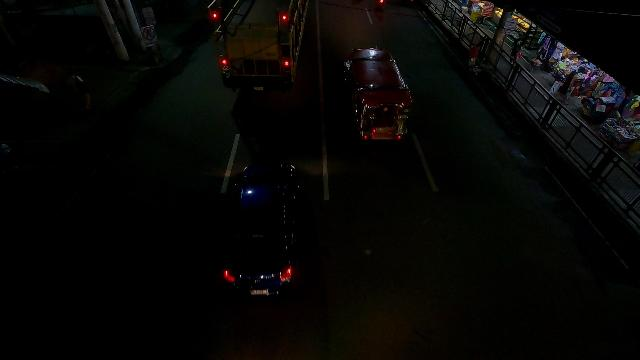car: (224, 164, 300, 295)
jeepney: (345, 47, 413, 139)
truck: (208, 0, 309, 90)
